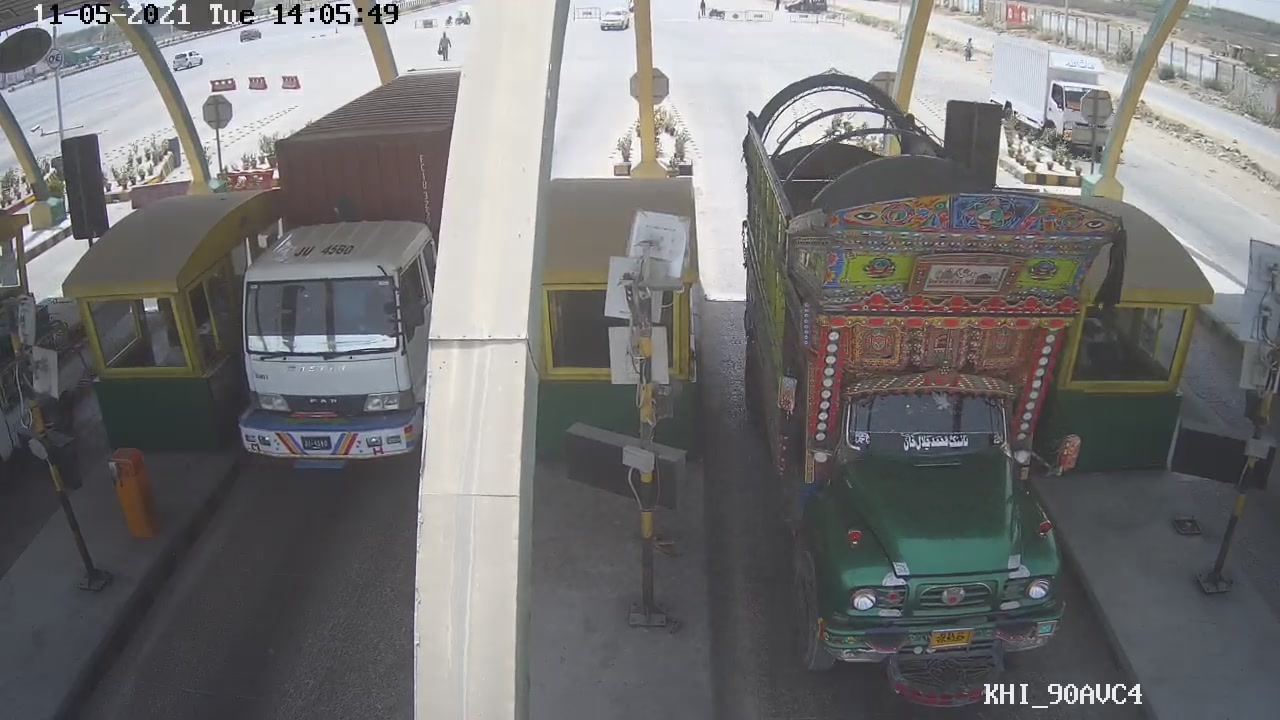F5: (733, 80, 1122, 714)
